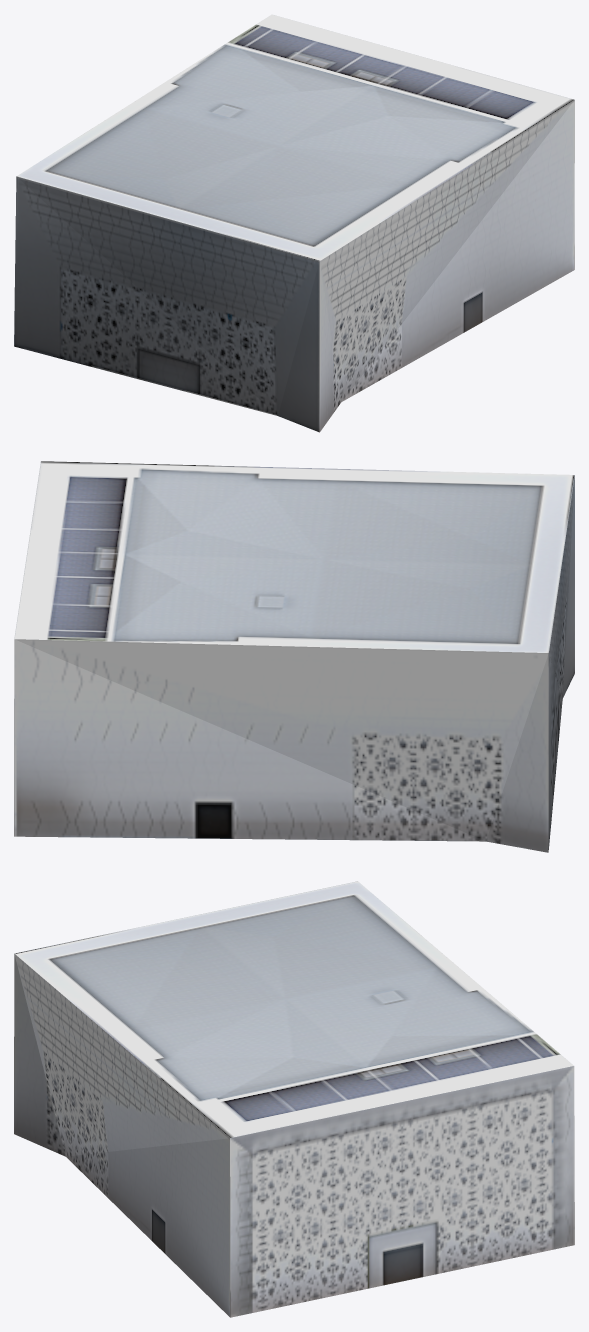
The model's file is MASJID.glb.
3 views of the same model, one above another, from view 1: azimuth 30°, elevation 25°; view 2: azimuth 150°, elevation 25°; view 3: azimuth 270°, elevation 25° (orthographic). The views are drawn at different scales.
Parts seen in each view (by area): view 1: Mosque.001; view 2: Mosque.001; view 3: Mosque.001.
Boxes of the visible parts, left/top/right/bottom form: Mosque.001: left=14, top=14, right=574, bottom=432; Mosque.001: left=14, top=461, right=574, bottom=852; Mosque.001: left=14, top=881, right=574, bottom=1317.
Size of the model in its own units: 39.77 by 13.03 by 36.68.
1 material, 1 textured.
